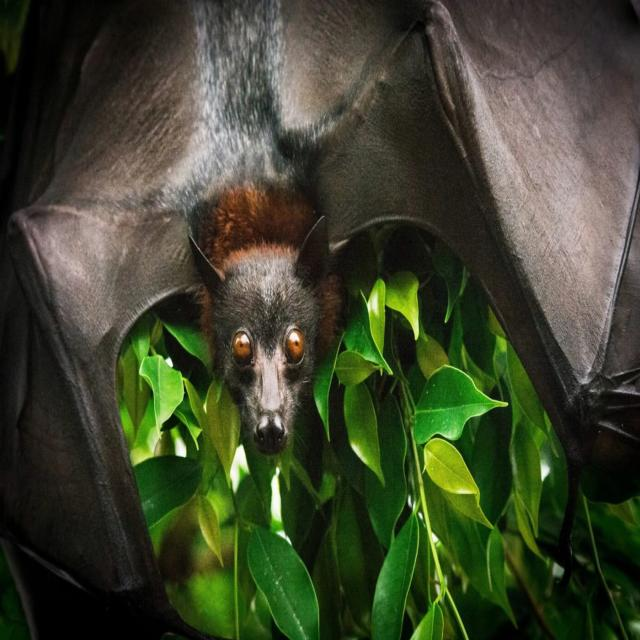bat: (0, 0, 640, 630)
